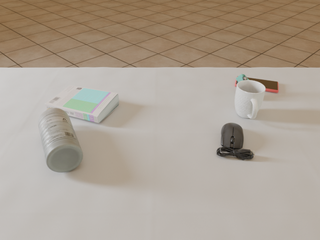book: (45, 85, 119, 123)
bottle: (38, 107, 83, 172)
cup: (235, 80, 266, 119)
mouse: (216, 123, 255, 160)
phone: (235, 76, 278, 92)
toy_car: (236, 74, 249, 84)
